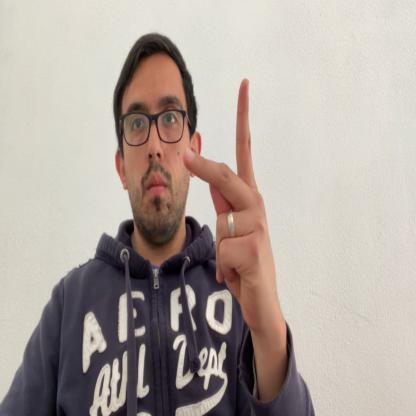P: (184, 78, 276, 329)
